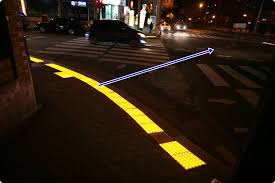guide_blocks: (161, 142, 203, 167), (47, 64, 72, 78), (111, 95, 132, 111), (78, 79, 105, 90)
